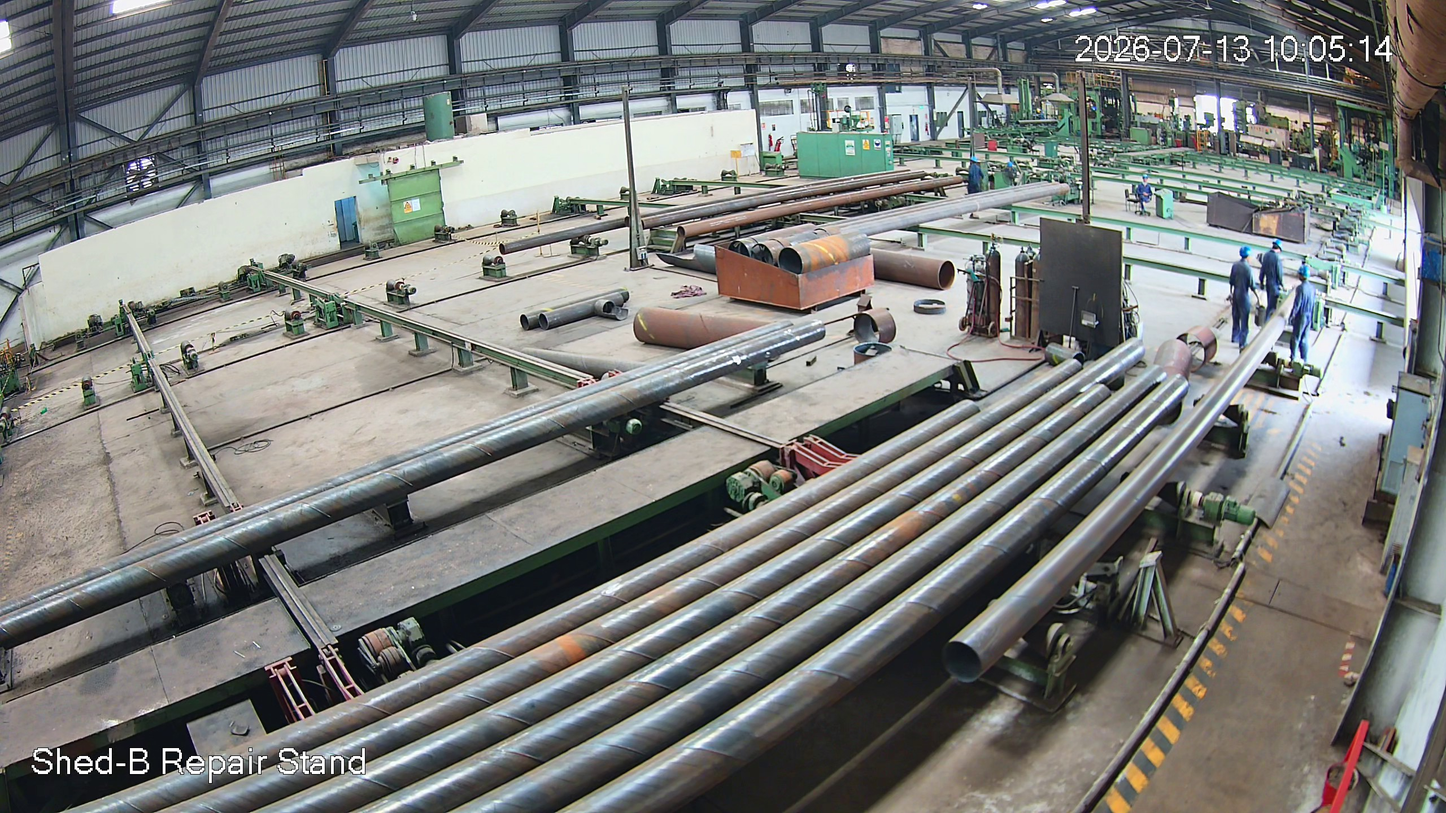Helmet: (1296, 264, 1315, 288), (1269, 238, 1286, 256), (1236, 246, 1251, 266)
Person: (1227, 246, 1260, 355), (1289, 265, 1318, 365), (1258, 240, 1289, 321)
